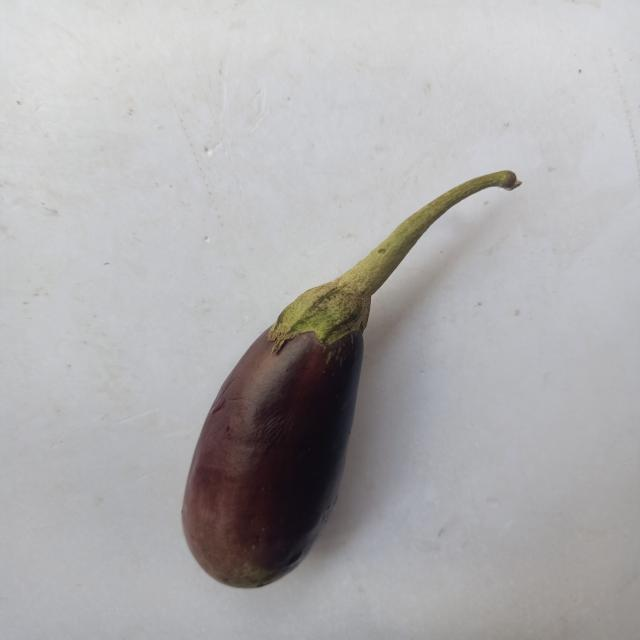Brinjal: (148, 146, 535, 599)
